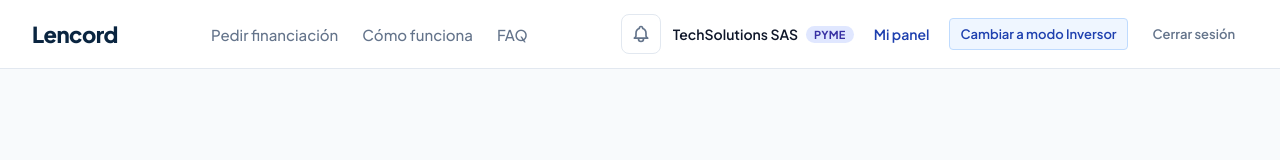
Test: Header Component › Dynamic Identity per Mode (Issue #61) › switches between PyME company name and Investor legal name on mode switch
The width and height of the screenshot is (1280, 160).
expect the text with test id "header-user-name" reads "TechSolutions SAS": met, box [673,25,798,43]
expect the text with test id "header-role-badge" reads "PyME": met, box [814,28,846,40]
Click to switch to investor mode
What coordinates should you click on to do the following:
click the button with test id "header-role-switcher"
I would click on:
 (1039, 34)
Its box is [950,18,1128,50].
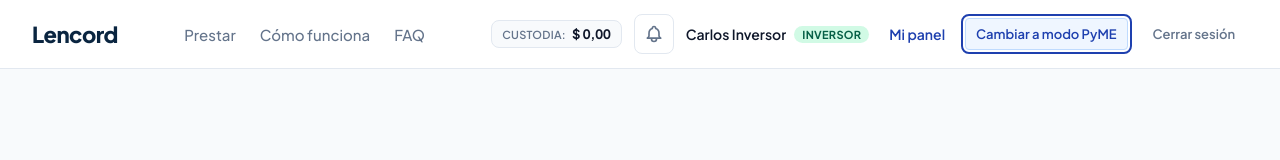
expect the text with test id "header-user-name" reads "Carlos Inversor": met, box [686,25,786,43]
expect the text with test id "header-role-badge" reads "Inversor": met, box [802,28,861,40]
